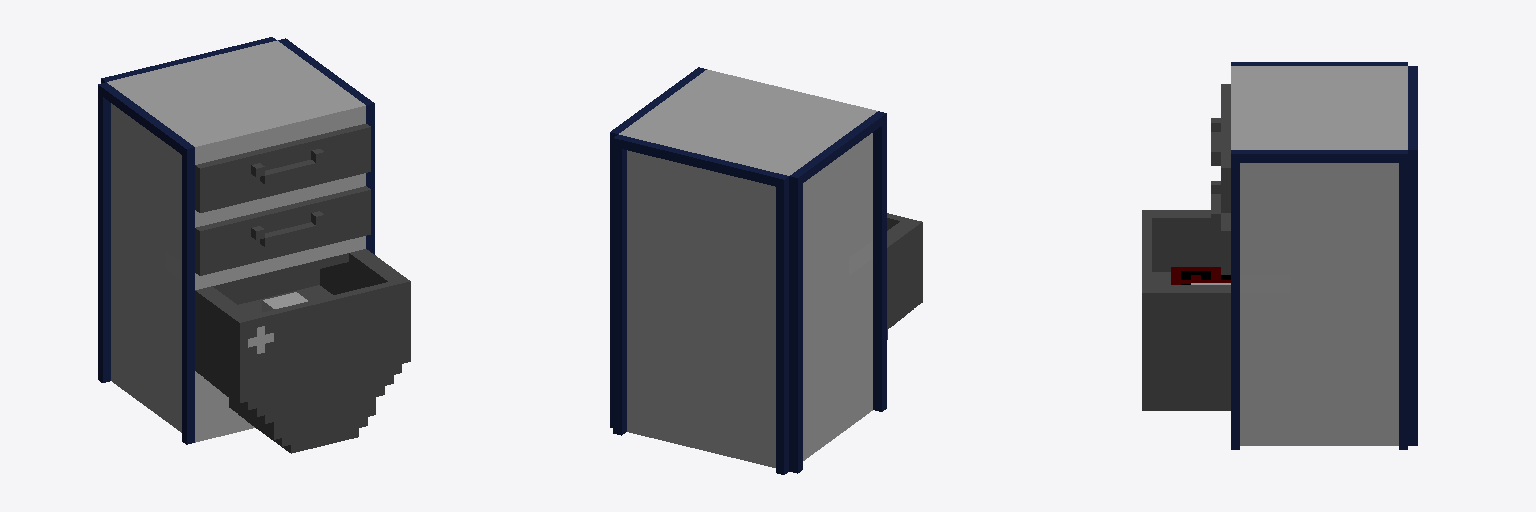
3 views of the same model, side by side, from view 1: azimuth 30°, elevation 25°; view 2: azimuth 150°, elevation 25°; view 3: azimuth 270°, elevation 25° (orthographic).
Parts seen in each view (by area): view 1: object 1; view 2: object 1; view 3: object 1.
Boxes of the visible parts, x1,y1,x2,y2 form: object 1: [98, 37, 410, 453]; object 1: [610, 67, 922, 474]; object 1: [1142, 62, 1417, 449].
Bounding box in the file's own units: 2.2 × 3.3 × 2.8.
1 materials, 1 textured.